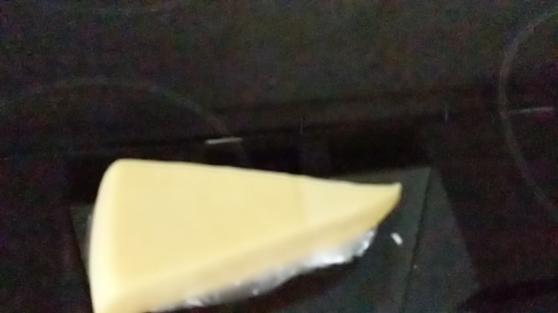cheese: (87, 149, 404, 313)
